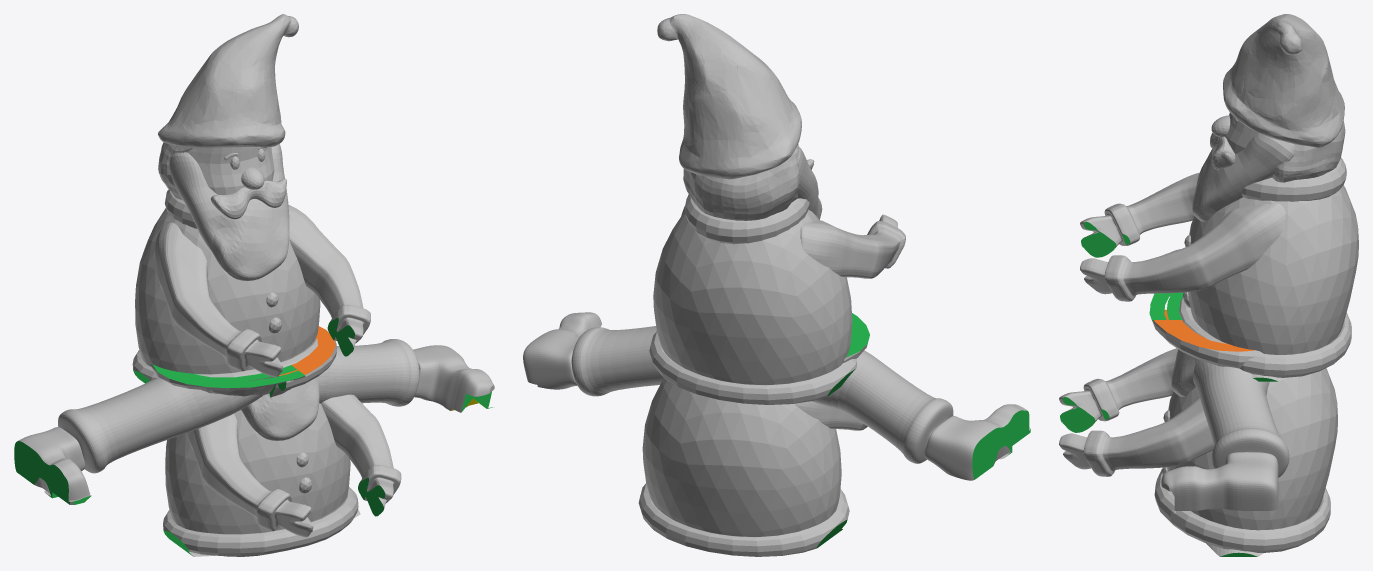
File: Santa epic split.glb
3 views of the same model, side by side, from view 1: azimuth 30°, elevation 25°; view 2: azimuth 150°, elevation 25°; view 3: azimuth 270°, elevation 25° (orthographic). The views are drawn at different scales.
Size of the model in its own units: 0.0728 by 0.0783 by 0.0418.
